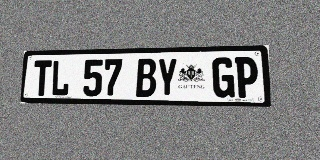5: (83, 59, 103, 96)
7: (102, 59, 123, 97)
B: (136, 58, 156, 97)
G: (212, 57, 235, 98)
L: (51, 60, 70, 96)
P: (235, 57, 258, 98)
T: (33, 60, 52, 96)
Y: (157, 58, 177, 97)
